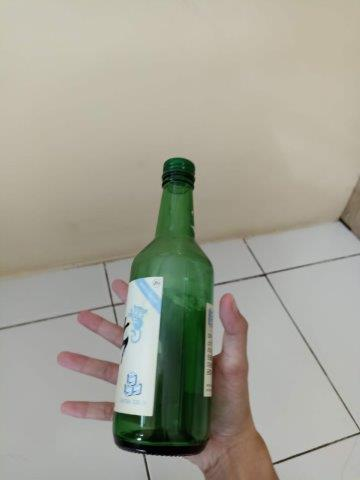botolkaca: (111, 158, 211, 456)
